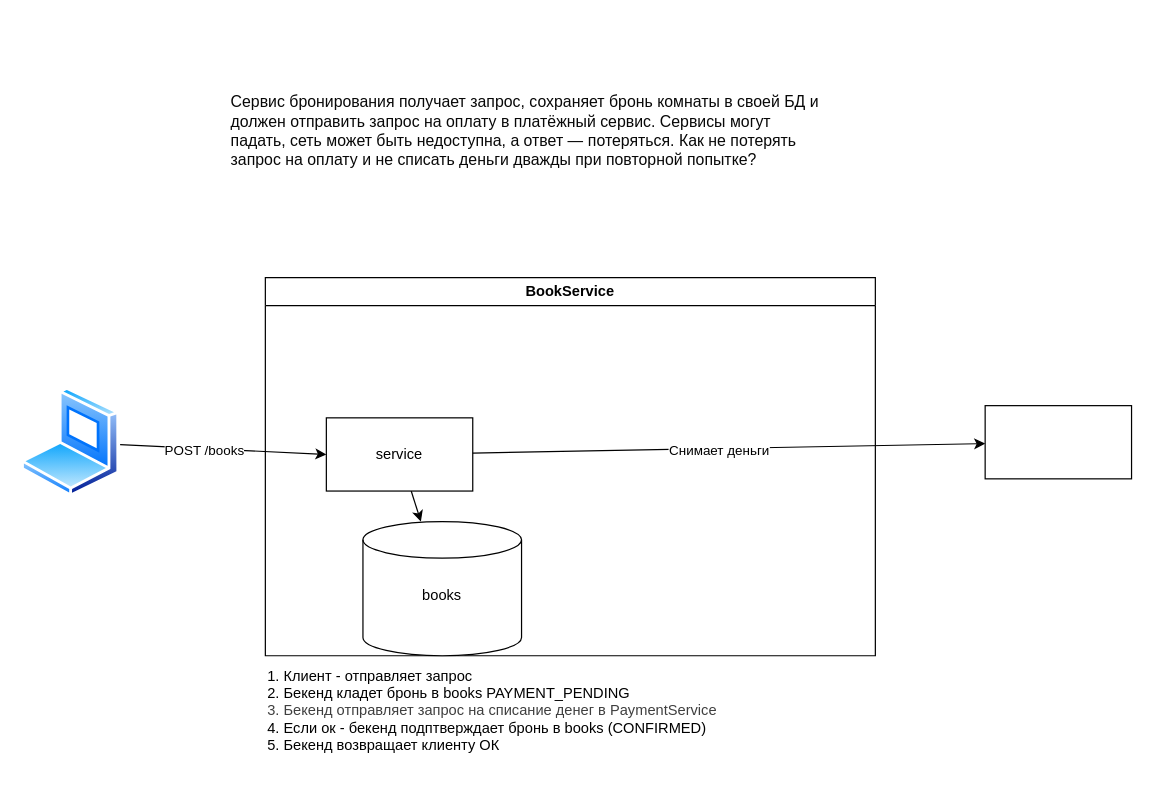
This 1153x810 diagram has some shape labels left out. Here are the shapes that lost their labels. From the top down, the centre of each, then its label:
(x=70, y=442): Client
(x=1058, y=441): PaymentService
